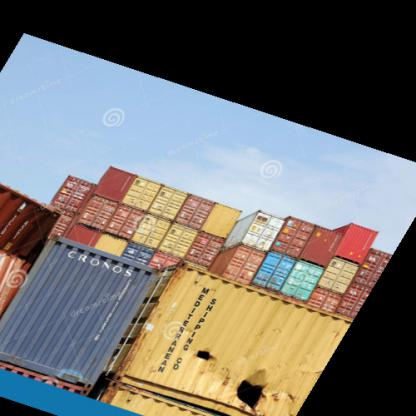Damage: (225, 368, 282, 407), (184, 338, 234, 366)
